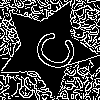C: (22, 23, 80, 75)
